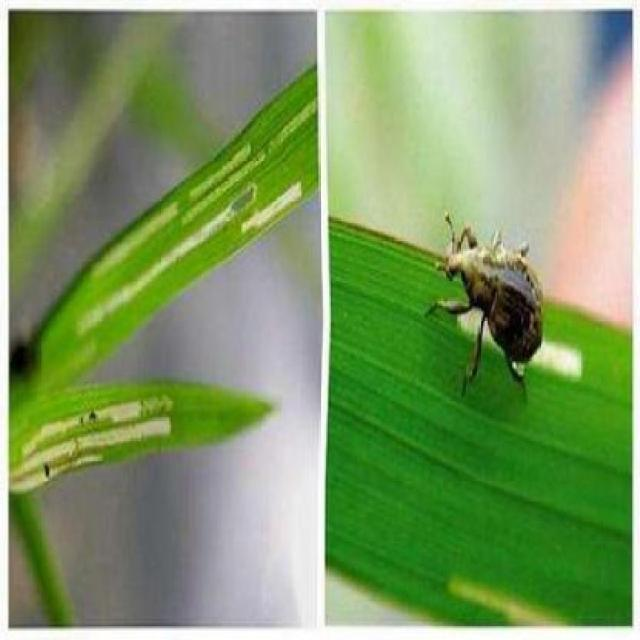rice-bug: (437, 229, 546, 373)
